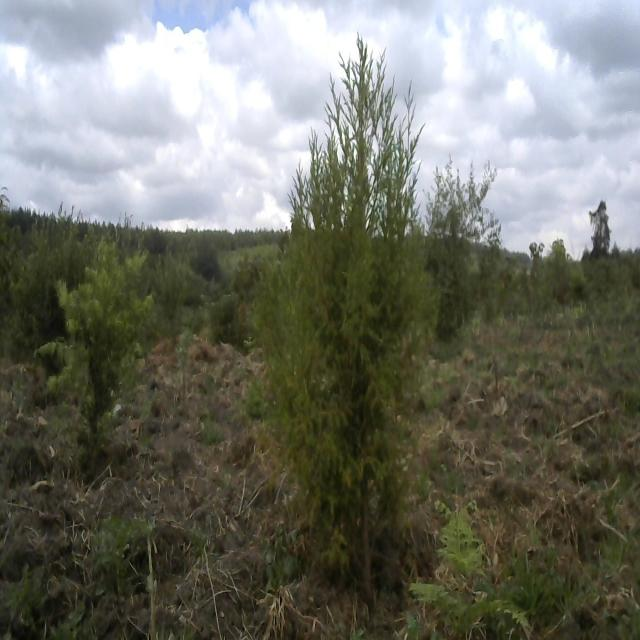Podocarpus falcatus: (46, 237, 158, 458)
cedrus: (271, 29, 427, 571)
other: (421, 140, 496, 340)
